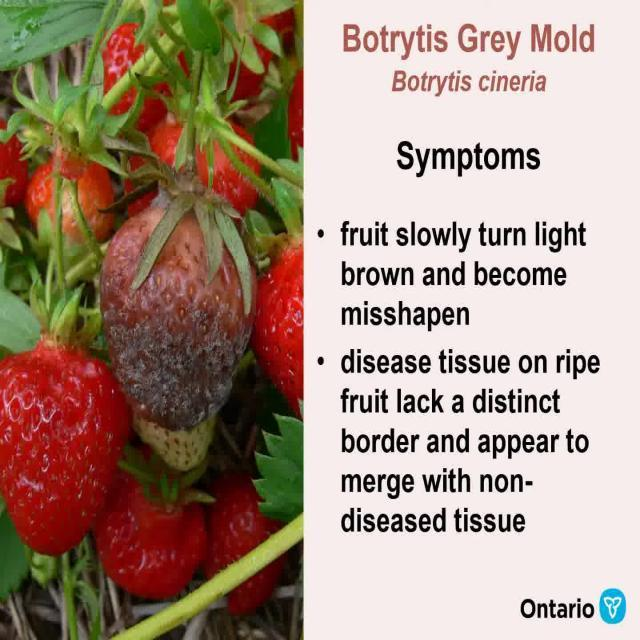Fruta sana: (0, 342, 120, 552), (105, 446, 209, 604), (142, 86, 265, 202), (219, 472, 283, 628), (94, 11, 182, 124), (28, 150, 111, 249)
Oído: (98, 192, 259, 435)
